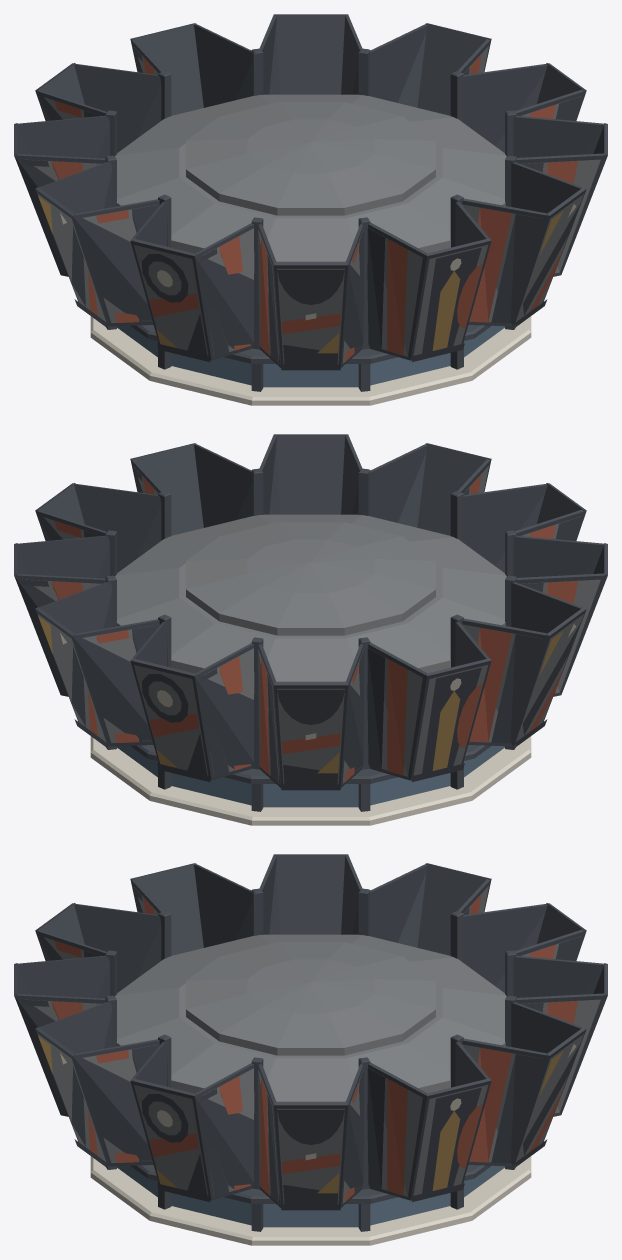
Rendered from mexico-city-polyforum-siqueiros.glb.
3 renders of one model, top to bottom at view 1: azimuth 30°, elevation 25°; view 2: azimuth 150°, elevation 25°; view 3: azimuth 270°, elevation 25°, orthographic.
Visible parts, largest first — view 1: Polyforum Cultural Siqueiros; view 2: Polyforum Cultural Siqueiros; view 3: Polyforum Cultural Siqueiros.
Part boxes in pixels (<box>): Polyforum Cultural Siqueiros: <box>14,14,607,405</box>; Polyforum Cultural Siqueiros: <box>14,434,607,825</box>; Polyforum Cultural Siqueiros: <box>14,854,607,1245</box>.
Size of the model in its own units: 56 by 18.5 by 56.
